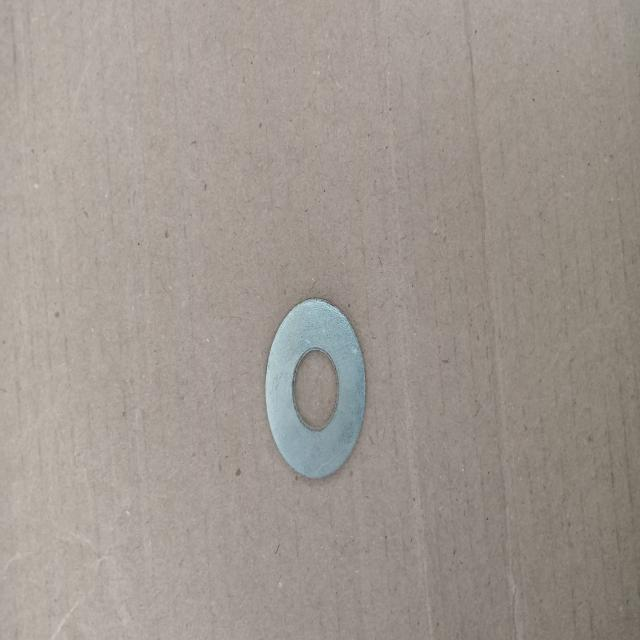washer: (264, 296, 366, 480)
